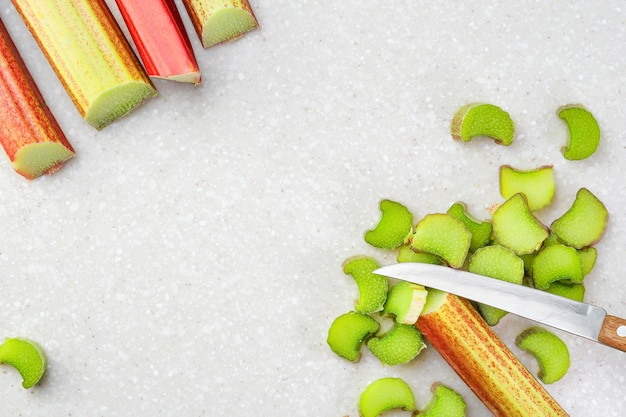knife: (373, 261, 626, 354)
